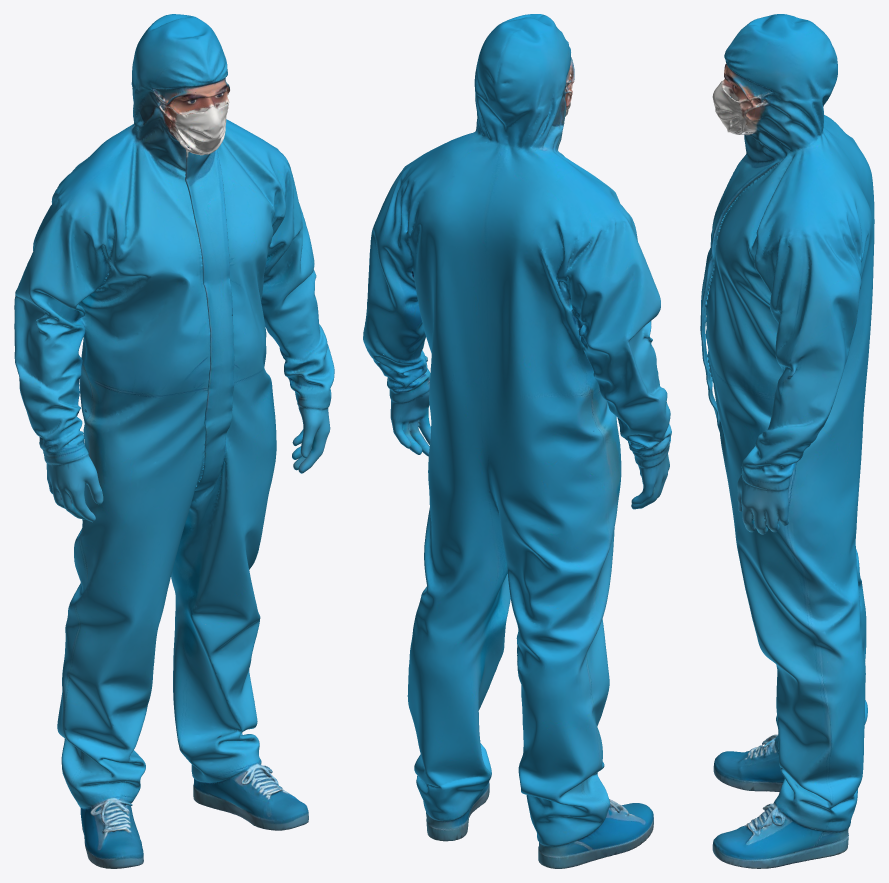
File: suit_blue.glb
3 views of the same model, side by side, from view 1: azimuth 30°, elevation 25°; view 2: azimuth 150°, elevation 25°; view 3: azimuth 270°, elevation 25° (orthographic).
Bounding box in the file's own units: 0.7285 × 1.9 × 0.3723.
Materials: 1 (1 with a texture image).
